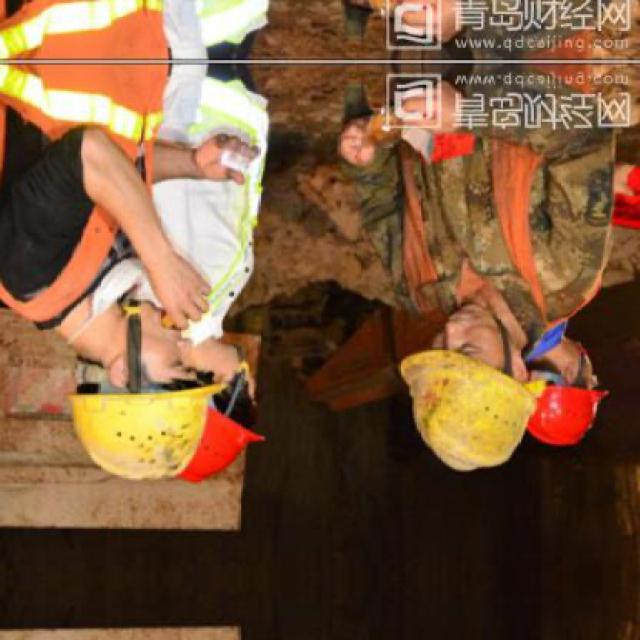con casco: (356, 325, 552, 465), (70, 325, 207, 495), (503, 360, 616, 460)
